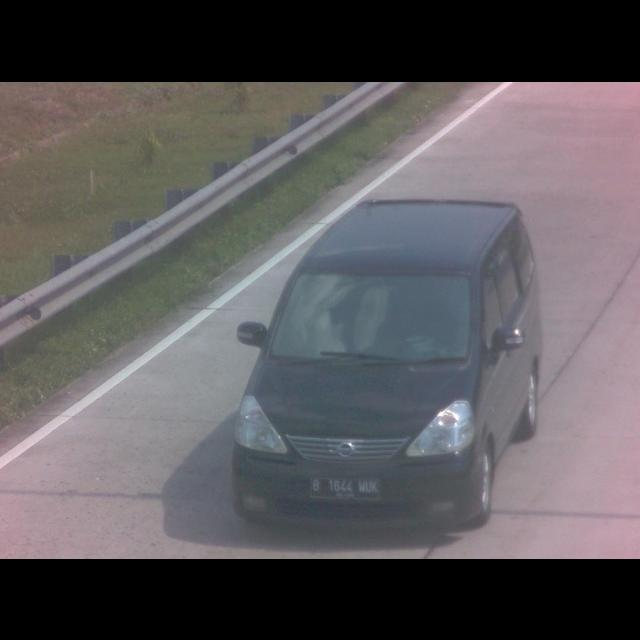plate: (308, 473, 382, 501)
